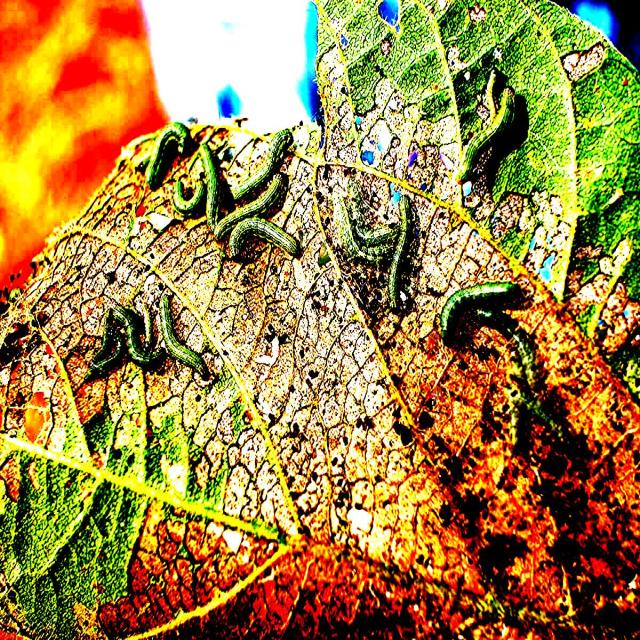Armyworm: (443, 79, 529, 200), (427, 273, 540, 345), (82, 294, 161, 383), (198, 178, 307, 235), (385, 199, 432, 316), (220, 128, 301, 193), (217, 218, 302, 268), (159, 290, 207, 376), (133, 117, 190, 189), (194, 131, 218, 250), (166, 169, 207, 228)
Armyworm_damage: (545, 40, 617, 111), (361, 1, 425, 57)
